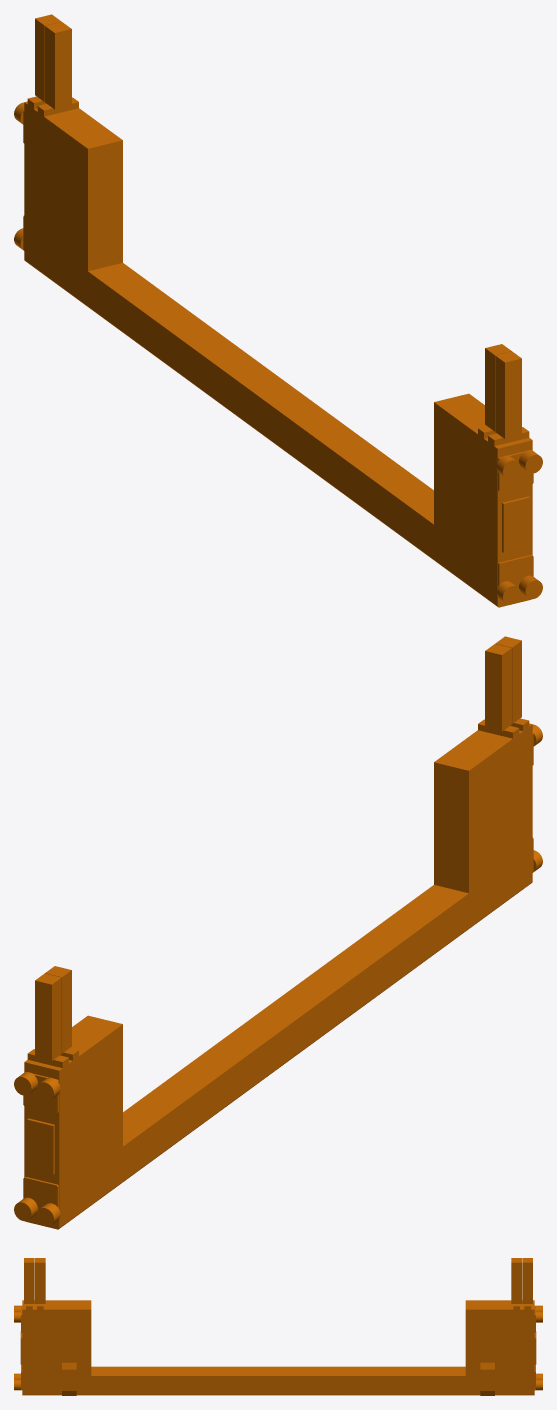
The model's file is LIFT-CWUG.obj.
3 views of the same model, one above another, from view 1: azimuth 30°, elevation 25°; view 2: azimuth 150°, elevation 25°; view 3: azimuth 270°, elevation 25° (orthographic). The views are drawn at different scales.
Visible parts, largest first — view 1: model; view 2: model; view 3: model.
Boxes of the visible parts, <box> form: model: <box>14,14,542,607</box>; model: <box>14,636,542,1229</box>; model: <box>14,1258,542,1395</box>.
Size of the model in its own units: 144 by 790 by 2894.
